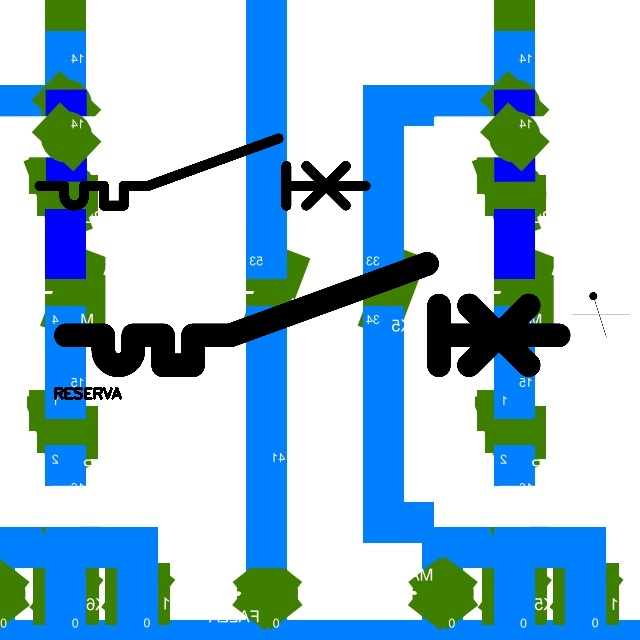interruptor_termomagnetico: (53, 251, 572, 378), (31, 130, 374, 214)
